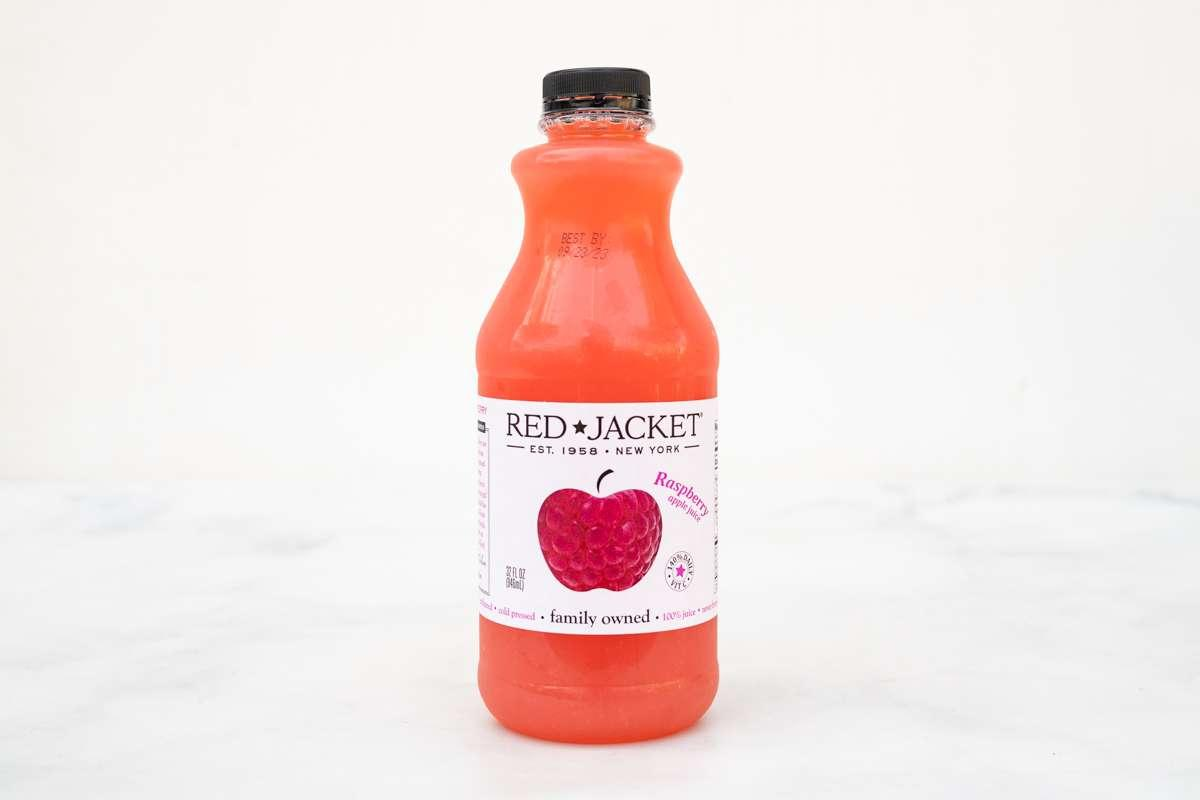juice: (471, 70, 723, 746)
